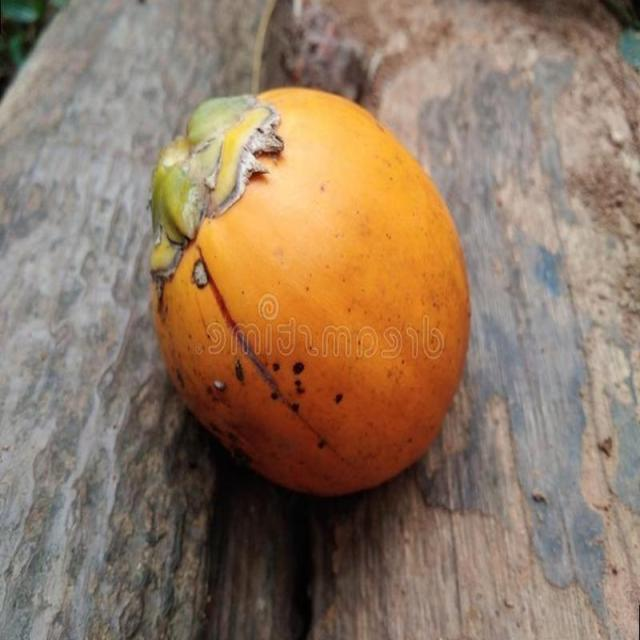good: (150, 87, 472, 500)
